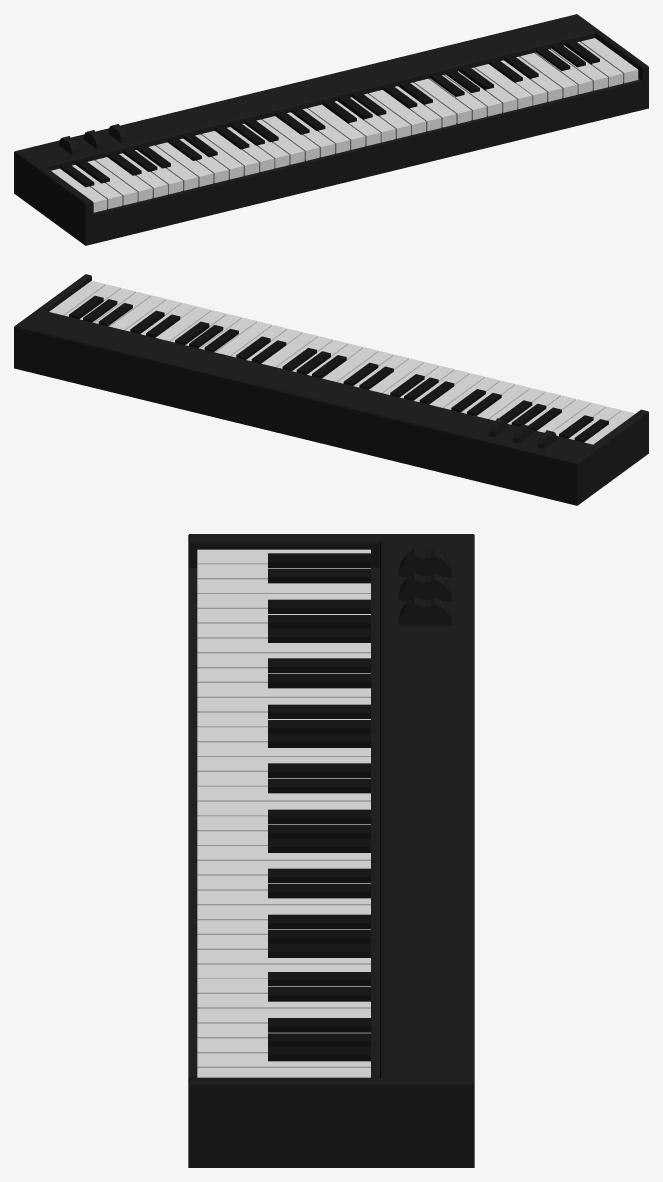
File: Midi Keyboard13.fbx
The picture shows the model from 3 angles, top to bottom: view 1: azimuth 30°, elevation 25°; view 2: azimuth 150°, elevation 25°; view 3: azimuth 270°, elevation 25°; orthographic projection. The views are drawn at different scales.
Parts seen in each view (by area): view 1: 49keysmidi.014; view 2: 49keysmidi.014; view 3: 49keysmidi.014.
Boxes of the visible parts, x1,y1,x2,y2 form: 49keysmidi.014: (14, 14, 648, 245); 49keysmidi.014: (14, 274, 648, 505); 49keysmidi.014: (188, 534, 474, 1167).
Bounding box in the file's own units: 86.17 × 7.84 × 18.98.
